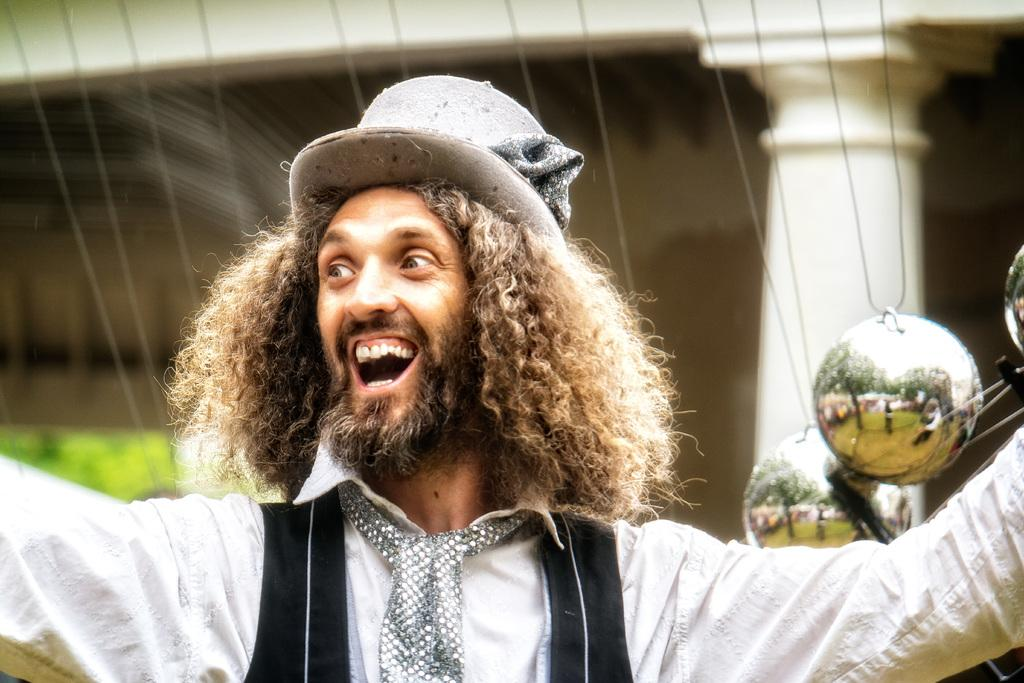Hat: (280, 73, 588, 254)
